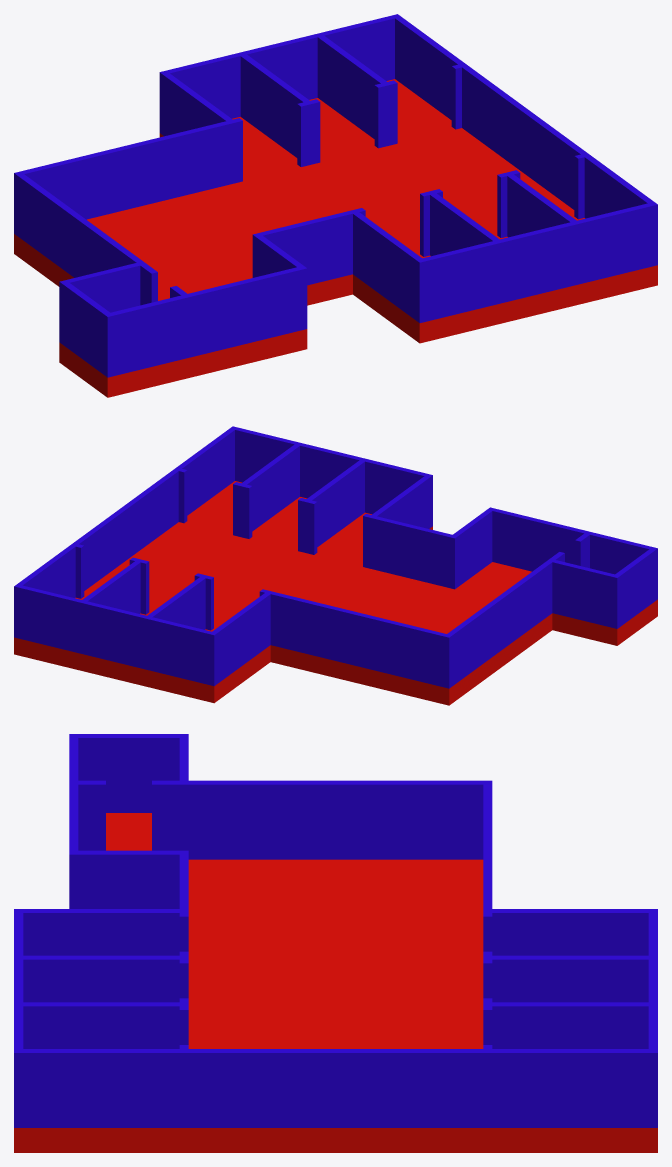
The model's file is Level_1.fbx.
3 views of the same model, one above another, from view 1: azimuth 30°, elevation 25°; view 2: azimuth 150°, elevation 25°; view 3: azimuth 270°, elevation 25° (orthographic). The views are drawn at different scales.
Parts seen in each view (by area): view 1: Cube; view 2: Cube; view 3: Cube.
Boxes of the visible parts, x1,y1,x2,y2 form: Cube: (14, 14, 657, 397); Cube: (14, 426, 657, 705); Cube: (14, 734, 657, 1152).
Size of the model in its own units: 2733 by 400 by 2333.
